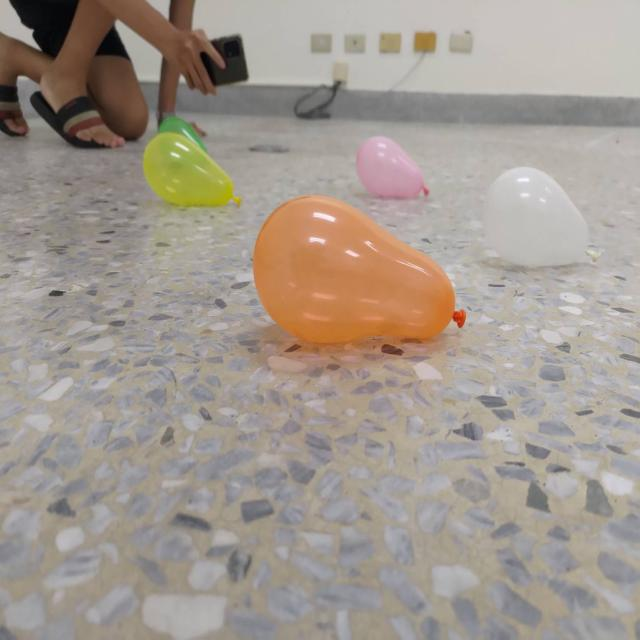other: (252, 193, 467, 346), (480, 166, 600, 268), (144, 132, 242, 206), (354, 135, 431, 198), (157, 118, 207, 150)
